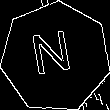N_S: (31, 29, 80, 86)
